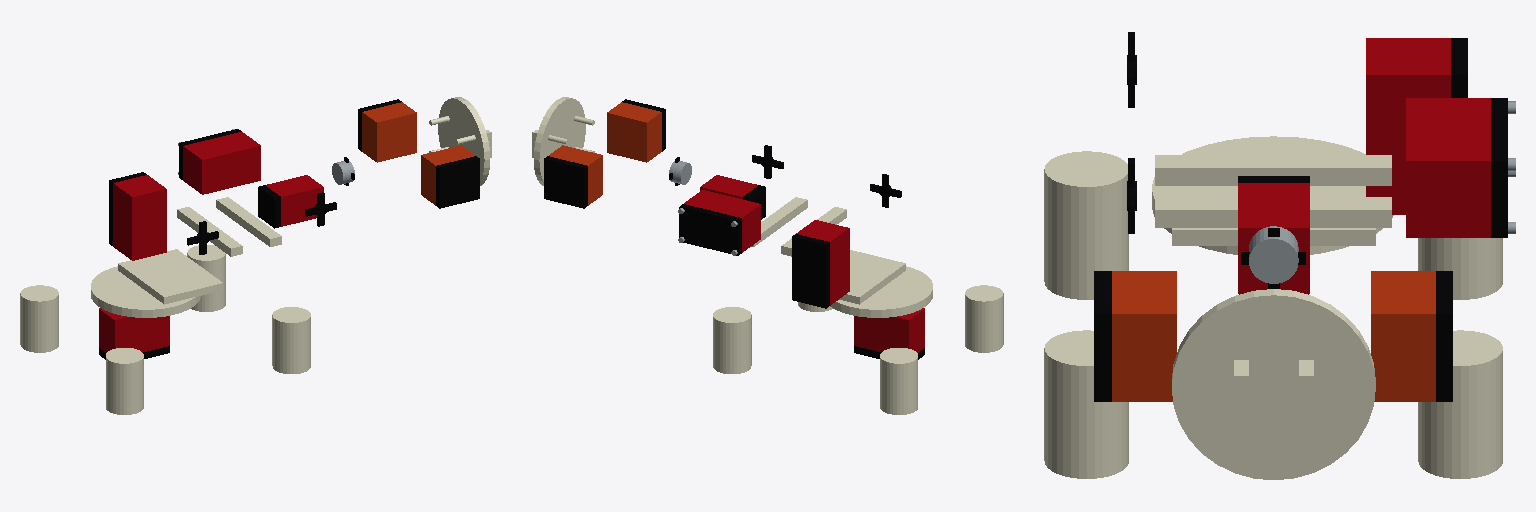
The robot description file, URDF, robot "waybionic_old_arm_visualization":
<?xml version="1.0" ?>
<robot name="waybionic_old_arm_visualization">
  <material name="old_arm_print">
    <color rgba="0.86 0.85 0.76 1"/>
  </material>
  <material name="old_arm_servo">
    <color rgba="0.65 0.045 0.09 1"/>
  </material>
  <material name="old_arm_distal_servo">
    <color rgba="0.72 0.24 0.10 1"/>
  </material>
  <material name="old_arm_cover">
    <color rgba="0.055 0.055 0.06 1"/>
  </material>
  <material name="old_arm_metal">
    <color rgba="0.62 0.65 0.67 1"/>
  </material>
  <link name="old_arm_base_link">
    <visual>
      <origin xyz="0 0 0"/>
      <geometry>
        <mesh filename="package://waybionic_description/meshes/old_arm/base_plate.stl" scale="1 1 1"/>
      </geometry>
      <material name="old_arm_print"/>
    </visual>
    <visual>
      <origin rpy="0 0 0" xyz="-0.065 -0.075 -0.041"/>
      <geometry>
        <cylinder length="0.05" radius="0.017"/>
      </geometry>
      <material name="old_arm_print"/>
    </visual>
    <visual>
      <origin rpy="0 0 0" xyz="-0.065 0.075 -0.041"/>
      <geometry>
        <cylinder length="0.05" radius="0.017"/>
      </geometry>
      <material name="old_arm_print"/>
    </visual>
    <visual>
      <origin rpy="0 0 0" xyz="0.105 -0.075 -0.041"/>
      <geometry>
        <cylinder length="0.05" radius="0.017"/>
      </geometry>
      <material name="old_arm_print"/>
    </visual>
    <visual>
      <origin rpy="0 0 0" xyz="0.105 0.075 -0.041"/>
      <geometry>
        <cylinder length="0.05" radius="0.017"/>
      </geometry>
      <material name="old_arm_print"/>
    </visual>
  </link>
  <joint name="old_arm_base_servo_body_mount" type="fixed">
    <parent link="old_arm_base_link"/>
    <child link="old_arm_base_servo_body"/>
    <origin xyz="-0.012 0 -0.031"/>
  </joint>
  <link name="old_arm_base_servo_body">
    <visual>
      <origin rpy="0 0 0" xyz="0 0 0"/>
      <geometry>
        <box size="0.056 0.028 0.038"/>
      </geometry>
      <material name="old_arm_servo"/>
    </visual>
  </link>
  <joint name="old_arm_base_servo_cover_mount" type="fixed">
    <parent link="old_arm_base_link"/>
    <child link="old_arm_base_servo_cover"/>
    <origin xyz="-0.012 0 -0.0535"/>
  </joint>
  <link name="old_arm_base_servo_cover">
    <visual>
      <origin rpy="0 0 0" xyz="0 0 0"/>
      <geometry>
        <box size="0.056 0.028 0.007"/>
      </geometry>
      <material name="old_arm_cover"/>
    </visual>
  </link>
  <joint name="old_arm_base_yaw_joint" type="revolute">
    <parent link="old_arm_base_link"/>
    <child link="old_arm_shoulder_mount"/>
    <axis xyz="0 0 1"/>
    <limit effort="0" lower="-0.5846852994181004" upper="4.127703680966589" velocity="0"/>
  </joint>
  <link name="old_arm_shoulder_mount">
    <visual>
      <origin rpy="0 0 0" xyz="0 0 0.002"/>
      <geometry>
        <cylinder length="0.008" radius="0.049"/>
      </geometry>
      <material name="old_arm_print"/>
    </visual>
    <visual>
      <origin rpy="0 0 0" xyz="0.025 0 0.0095"/>
      <geometry>
        <box size="0.060 0.082 0.007"/>
      </geometry>
      <material name="old_arm_print"/>
    </visual>
    <visual>
      <origin xyz="0.025 0.034 0.07"/>
      <geometry>
        <mesh filename="package://waybionic_description/meshes/old_arm/shoulder_motor_plate.stl" scale="1 1 1.0000000000000002"/>
      </geometry>
      <material name="old_arm_print"/>
    </visual>
    <visual>
      <origin xyz="0.025 -0.034 0.07"/>
      <geometry>
        <mesh filename="package://waybionic_description/meshes/old_arm/shoulder_back_plate.stl" scale="1 1 1.0000000000000002"/>
      </geometry>
      <material name="old_arm_print"/>
    </visual>
  </link>
  <joint name="old_arm_shoulder_servo_body_mount" type="fixed">
    <parent link="old_arm_shoulder_mount"/>
    <child link="old_arm_shoulder_servo_body"/>
    <origin xyz="0.025 0.054 0.045000000000000005"/>
  </joint>
  <link name="old_arm_shoulder_servo_body">
    <visual>
      <origin rpy="0 0 0" xyz="0 0 0"/>
      <geometry>
        <box size="0.035 0.034 0.062"/>
      </geometry>
      <material name="old_arm_servo"/>
    </visual>
  </link>
  <joint name="old_arm_shoulder_servo_cover_mount" type="fixed">
    <parent link="old_arm_shoulder_mount"/>
    <child link="old_arm_shoulder_servo_cover"/>
    <origin xyz="0.025 0.0745 0.045000000000000005"/>
  </joint>
  <link name="old_arm_shoulder_servo_cover">
    <visual>
      <origin rpy="0 0 0" xyz="0 0 0"/>
      <geometry>
        <box size="0.035 0.007 0.062"/>
      </geometry>
      <material name="old_arm_cover"/>
    </visual>
  </link>
  <joint name="old_arm_shoulder_pitch_joint" type="revolute">
    <parent link="old_arm_shoulder_mount"/>
    <child link="old_arm_upper_arm"/>
    <origin xyz="0.025 0 0.07"/>
    <axis xyz="0 -1 0"/>
    <limit effort="0" lower="-0.0" upper="1.9634954084936207" velocity="0"/>
  </joint>
  <link name="old_arm_upper_arm">
    <visual>
      <origin xyz="0 -0.050 0"/>
      <geometry>
        <mesh filename="package://waybionic_description/meshes/old_arm/upper_arm_plate.stl" scale="1.0 1 1"/>
      </geometry>
      <material name="old_arm_print"/>
    </visual>
    <visual>
      <origin xyz="0 0.050 0"/>
      <geometry>
        <mesh filename="package://waybionic_description/meshes/old_arm/upper_arm_plate.stl" scale="1.0 1 1"/>
      </geometry>
      <material name="old_arm_print"/>
    </visual>
    <visual>
      <origin rpy="0 0 0" xyz="0.04 0 -0.026"/>
      <geometry>
        <box size="0.012 0.095 0.008"/>
      </geometry>
      <material name="old_arm_print"/>
    </visual>
    <visual>
      <origin rpy="0 0 0" xyz="0.08 0 -0.026"/>
      <geometry>
        <box size="0.012 0.095 0.008"/>
      </geometry>
      <material name="old_arm_print"/>
    </visual>
  </link>
  <joint name="old_arm_shoulder_horn_mount" type="fixed">
    <parent link="old_arm_upper_arm"/>
    <child link="old_arm_shoulder_horn"/>
    <origin xyz="0 -0.057 0"/>
  </joint>
  <link name="old_arm_shoulder_horn">
    <visual>
      <origin rpy="0 0 0" xyz="0 0 0"/>
      <geometry>
        <box size="0.031 0.003 0.006"/>
      </geometry>
      <material name="old_arm_cover"/>
    </visual>
    <visual>
      <origin rpy="0 0 0" xyz="0 0 0"/>
      <geometry>
        <box size="0.006 0.003 0.031"/>
      </geometry>
      <material name="old_arm_cover"/>
    </visual>
    <visual>
      <origin rpy="1.5707963267948966 0 0" xyz="0 0 0"/>
      <geometry>
        <cylinder length="0.004" radius="0.006"/>
      </geometry>
      <material name="old_arm_cover"/>
    </visual>
  </link>
  <joint name="old_arm_elbow_servo_body_mount" type="fixed">
    <parent link="old_arm_upper_arm"/>
    <child link="old_arm_elbow_servo_body"/>
    <origin xyz="0.093 0.070 0"/>
  </joint>
  <link name="old_arm_elbow_servo_body">
    <visual>
      <origin rpy="0 0 0" xyz="0 0 0"/>
      <geometry>
        <box size="0.060 0.034 0.034"/>
      </geometry>
      <material name="old_arm_servo"/>
    </visual>
  </link>
  <joint name="old_arm_elbow_servo_cover_mount" type="fixed">
    <parent link="old_arm_upper_arm"/>
    <child link="old_arm_elbow_servo_cover"/>
    <origin xyz="0.093 0.0905 0"/>
  </joint>
  <link name="old_arm_elbow_servo_cover">
    <visual>
      <origin rpy="0 0 0" xyz="0 0 0"/>
      <geometry>
        <box size="0.060 0.007 0.034"/>
      </geometry>
      <material name="old_arm_cover"/>
    </visual>
  </link>
  <joint name="old_arm_elbow_cover_screws_mount" type="fixed">
    <parent link="old_arm_upper_arm"/>
    <child link="old_arm_elbow_cover_screws"/>
  </joint>
  <link name="old_arm_elbow_cover_screws">
    <visual>
      <origin rpy="1.5707963267948966 0 0" xyz="0.066 0.0955 -0.014"/>
      <geometry>
        <cylinder length="0.003" radius="0.0025"/>
      </geometry>
      <material name="old_arm_metal"/>
    </visual>
    <visual>
      <origin rpy="1.5707963267948966 0 0" xyz="0.12 0.0955 -0.014"/>
      <geometry>
        <cylinder length="0.003" radius="0.0025"/>
      </geometry>
      <material name="old_arm_metal"/>
    </visual>
    <visual>
      <origin rpy="1.5707963267948966 0 0" xyz="0.066 0.0955 0.014"/>
      <geometry>
        <cylinder length="0.003" radius="0.0025"/>
      </geometry>
      <material name="old_arm_metal"/>
    </visual>
    <visual>
      <origin rpy="1.5707963267948966 0 0" xyz="0.12 0.0955 0.014"/>
      <geometry>
        <cylinder length="0.003" radius="0.0025"/>
      </geometry>
      <material name="old_arm_metal"/>
    </visual>
  </link>
  <joint name="old_arm_elbow_pitch_joint" type="revolute">
    <parent link="old_arm_upper_arm"/>
    <child link="old_arm_forearm"/>
    <origin xyz="0.12 0 0"/>
    <axis xyz="0 -1 0"/>
    <limit effort="0" lower="-1.0733774899765127" upper="2.0682151636132806" velocity="0"/>
  </joint>
  <link name="old_arm_forearm">
    <visual>
      <origin xyz="0 0 0"/>
      <geometry>
        <mesh filename="package://waybionic_description/meshes/old_arm/wrist_housing.stl" scale="1.0 1 1"/>
      </geometry>
      <material name="old_arm_print"/>
    </visual>
  </link>
  <joint name="old_arm_elbow_horn_mount" type="fixed">
    <parent link="old_arm_forearm"/>
    <child link="old_arm_elbow_horn"/>
    <origin xyz="0 -0.057 0"/>
  </joint>
  <link name="old_arm_elbow_horn">
    <visual>
      <origin rpy="0 0 0" xyz="0 0 0"/>
      <geometry>
        <box size="0.031 0.003 0.006"/>
      </geometry>
      <material name="old_arm_cover"/>
    </visual>
    <visual>
      <origin rpy="0 0 0" xyz="0 0 0"/>
      <geometry>
        <box size="0.006 0.003 0.031"/>
      </geometry>
      <material name="old_arm_cover"/>
    </visual>
    <visual>
      <origin rpy="1.5707963267948966 0 0" xyz="0 0 0"/>
      <geometry>
        <cylinder length="0.004" radius="0.006"/>
      </geometry>
      <material name="old_arm_cover"/>
    </visual>
  </link>
  <joint name="old_arm_wrist_servo_body_mount" type="fixed">
    <parent link="old_arm_forearm"/>
    <child link="old_arm_wrist_servo_body"/>
    <origin xyz="0.006000000000000005 0 -0.016"/>
  </joint>
  <link name="old_arm_wrist_servo_body">
    <visual>
      <origin rpy="0 0 0" xyz="0 0 0"/>
      <geometry>
        <box size="0.043 0.029 0.029"/>
      </geometry>
      <material name="old_arm_servo"/>
    </visual>
  </link>
  <joint name="old_arm_wrist_servo_cover_mount" type="fixed">
    <parent link="old_arm_forearm"/>
    <child link="old_arm_wrist_servo_cover"/>
    <origin xyz="-0.019000000000000003 0 -0.016"/>
  </joint>
  <link name="old_arm_wrist_servo_cover">
    <visual>
      <origin rpy="0 0 0" xyz="0 0 0"/>
      <geometry>
        <box size="0.007 0.029 0.029"/>
      </geometry>
      <material name="old_arm_cover"/>
    </visual>
  </link>
  <joint name="old_arm_wrist_roll_joint" type="revolute">
    <parent link="old_arm_forearm"/>
    <child link="old_arm_wrist_roll"/>
    <origin xyz="0.05 0 0"/>
    <axis xyz="1 0 0"/>
    <limit effort="0" lower="-0.4799655442984406" upper="4.232423436086249" velocity="0"/>
  </joint>
  <link name="old_arm_wrist_roll">
    <visual>
      <origin xyz="0 0 0"/>
      <geometry>
        <mesh filename="package://waybionic_description/meshes/old_arm/wrist_cage.stl" scale="1 1 1"/>
      </geometry>
      <material name="old_arm_print"/>
    </visual>
    <visual>
      <origin rpy="0 1.5707963267948966 0" xyz="0.129 0 0"/>
      <geometry>
        <cylinder length="0.006" radius="0.041"/>
      </geometry>
      <material name="old_arm_print"/>
    </visual>
    <visual>
      <origin rpy="0 1.5707963267948966 0" xyz="0.118 -0.023 -0.015"/>
      <geometry>
        <cylinder length="0.02" radius="0.0025"/>
      </geometry>
      <material name="old_arm_print"/>
    </visual>
    <visual>
      <origin rpy="0 1.5707963267948966 0" xyz="0.118 0.023 -0.015"/>
      <geometry>
        <cylinder length="0.02" radius="0.0025"/>
      </geometry>
      <material name="old_arm_print"/>
    </visual>
    <visual>
      <origin rpy="0 1.5707963267948966 0" xyz="0.118 -0.023 0.015"/>
      <geometry>
        <cylinder length="0.02" radius="0.0025"/>
      </geometry>
      <material name="old_arm_print"/>
    </visual>
    <visual>
      <origin rpy="0 1.5707963267948966 0" xyz="0.118 0.023 0.015"/>
      <geometry>
        <cylinder length="0.02" radius="0.0025"/>
      </geometry>
      <material name="old_arm_print"/>
    </visual>
    <visual>
      <origin rpy="0 0 0" xyz="0.139 -0.013 0"/>
      <geometry>
        <box size="0.017 0.006 0.025"/>
      </geometry>
      <material name="old_arm_print"/>
    </visual>
    <visual>
      <origin rpy="0 0 0" xyz="0.139 0.013 0"/>
      <geometry>
        <box size="0.017 0.006 0.025"/>
      </geometry>
      <material name="old_arm_print"/>
    </visual>
  </link>
  <joint name="old_arm_distal_left_servo_mount" type="fixed">
    <parent link="old_arm_wrist_roll"/>
    <child link="old_arm_distal_left_servo"/>
    <origin xyz="0.083 0.052 0"/>
  </joint>
  <link name="old_arm_distal_left_servo">
    <visual>
      <origin rpy="0 0 0" xyz="0 0 0"/>
      <geometry>
        <box size="0.041 0.026 0.039"/>
      </geometry>
      <material name="old_arm_distal_servo"/>
    </visual>
  </link>
  <joint name="old_arm_distal_right_servo_mount" type="fixed">
    <parent link="old_arm_wrist_roll"/>
    <child link="old_arm_distal_right_servo"/>
    <origin xyz="0.083 -0.052 0"/>
  </joint>
  <link name="old_arm_distal_right_servo">
    <visual>
      <origin rpy="0 0 0" xyz="0 0 0"/>
      <geometry>
        <box size="0.041 0.026 0.039"/>
      </geometry>
      <material name="old_arm_distal_servo"/>
    </visual>
  </link>
  <joint name="old_arm_distal_left_cover_mount" type="fixed">
    <parent link="old_arm_distal_left_servo"/>
    <child link="old_arm_distal_left_cover"/>
    <origin xyz="0 0.0165 0"/>
  </joint>
  <link name="old_arm_distal_left_cover">
    <visual>
      <origin rpy="0 0 0" xyz="0 0 0"/>
      <geometry>
        <box size="0.041 0.007 0.039"/>
      </geometry>
      <material name="old_arm_cover"/>
    </visual>
  </link>
  <joint name="old_arm_distal_right_cover_mount" type="fixed">
    <parent link="old_arm_distal_right_servo"/>
    <child link="old_arm_distal_right_cover"/>
    <origin xyz="0 -0.0165 0"/>
  </joint>
  <link name="old_arm_distal_right_cover">
    <visual>
      <origin rpy="0 0 0" xyz="0 0 0"/>
      <geometry>
        <box size="0.041 0.007 0.039"/>
      </geometry>
      <material name="old_arm_cover"/>
    </visual>
  </link>
  <joint name="old_arm_wrist_marker_mount" type="fixed">
    <parent link="old_arm_wrist_roll"/>
    <child link="old_arm_wrist_marker"/>
    <origin xyz="0.009 0 0"/>
  </joint>
  <link name="old_arm_wrist_marker">
    <visual>
      <origin rpy="0 0 0" xyz="0 0 0"/>
      <geometry>
        <box size="0.002 0.026 0.005"/>
      </geometry>
      <material name="old_arm_cover"/>
    </visual>
  </link>
  <joint name="old_arm_wrist_marker_cross_mount" type="fixed">
    <parent link="old_arm_wrist_roll"/>
    <child link="old_arm_wrist_marker_cross"/>
    <origin xyz="0.009 0 0"/>
  </joint>
  <link name="old_arm_wrist_marker_cross">
    <visual>
      <origin rpy="0 0 0" xyz="0 0 0"/>
      <geometry>
        <box size="0.002 0.005 0.026"/>
      </geometry>
      <material name="old_arm_cover"/>
    </visual>
  </link>
  <joint name="old_arm_wrist_hub_mount" type="fixed">
    <parent link="old_arm_wrist_roll"/>
    <child link="old_arm_wrist_hub"/>
  </joint>
  <link name="old_arm_wrist_hub">
    <visual>
      <origin rpy="0 1.5707963267948966 0" xyz="0.006 0 0"/>
      <geometry>
        <cylinder length="0.012" radius="0.01"/>
      </geometry>
      <material name="old_arm_metal"/>
    </visual>
  </link>
  <joint name="old_arm_tool_joint" type="fixed">
    <parent link="old_arm_wrist_roll"/>
    <child link="old_arm_tool_frame"/>
    <origin xyz="0.0 0 0"/>
  </joint>
  <link name="old_arm_tool_frame"/>
</robot>

--- What the picture shows (computed from the rendered views, not written in the file) ---
3 views of the same robot in one strip: view 1: azimuth 30°, elevation 25°; view 2: azimuth 150°, elevation 25°; view 3: azimuth 270°, elevation 25° (orthographic).
Robot: waybionic_old_arm_visualization — 24 links, 23 joints (4 revolute, 19 fixed); root link old_arm_base_link; default pose: every joint at zero.
Visible links, largest first — view 1: old_arm_base_link, old_arm_shoulder_mount, old_arm_shoulder_servo_body, old_arm_elbow_servo_body, old_arm_distal_left_servo, old_arm_wrist_roll, old_arm_base_servo_body, old_arm_upper_arm, old_arm_distal_right_cover, old_arm_wrist_servo_body, old_arm_distal_right_servo, old_arm_wrist_servo_cover; view 2: old_arm_base_link, old_arm_shoulder_mount, old_arm_distal_right_servo, old_arm_wrist_roll, old_arm_shoulder_servo_cover, old_arm_base_servo_body, old_arm_elbow_servo_cover, old_arm_distal_left_cover, old_arm_shoulder_servo_body, old_arm_elbow_servo_body, old_arm_upper_arm, old_arm_distal_left_servo (+1 smaller); view 3: old_arm_base_link, old_arm_wrist_roll, old_arm_elbow_servo_body, old_arm_upper_arm, old_arm_shoulder_servo_body, old_arm_distal_left_servo, old_arm_distal_right_servo, old_arm_shoulder_mount, old_arm_wrist_servo_body, old_arm_elbow_servo_cover, old_arm_distal_right_cover, old_arm_wrist_hub (+4 smaller).
Link boxes in pixels (left/top/right/bottom): old_arm_base_link: left=20, top=245, right=310, bottom=414; old_arm_shoulder_mount: left=91, top=249, right=222, bottom=317; old_arm_shoulder_servo_body: left=113, top=175, right=166, bottom=260; old_arm_elbow_servo_body: left=183, top=132, right=260, bottom=194; old_arm_distal_left_servo: left=362, top=102, right=416, bottom=162; old_arm_wrist_roll: left=429, top=97, right=491, bottom=185; old_arm_base_servo_body: left=99, top=308, right=169, bottom=352; old_arm_upper_arm: left=177, top=197, right=281, bottom=256; old_arm_distal_right_cover: left=436, top=156, right=479, bottom=208; old_arm_wrist_servo_body: left=266, top=175, right=323, bottom=226; old_arm_distal_right_servo: left=421, top=145, right=474, bottom=205; old_arm_wrist_servo_cover: left=258, top=185, right=280, bottom=228; old_arm_base_link: left=713, top=285, right=1003, bottom=414; old_arm_shoulder_mount: left=830, top=250, right=932, bottom=317; old_arm_distal_right_servo: left=607, top=102, right=661, bottom=162; old_arm_wrist_roll: left=532, top=97, right=594, bottom=185; old_arm_shoulder_servo_cover: left=792, top=234, right=829, bottom=308; old_arm_base_servo_body: left=854, top=308, right=924, bottom=352; old_arm_elbow_servo_cover: left=679, top=204, right=741, bottom=255; old_arm_distal_left_cover: left=544, top=156, right=587, bottom=208; old_arm_shoulder_servo_body: left=796, top=220, right=849, bottom=305; old_arm_elbow_servo_body: left=684, top=190, right=760, bottom=252; old_arm_upper_arm: left=751, top=197, right=846, bottom=256; old_arm_distal_left_servo: left=549, top=145, right=602, bottom=205; old_arm_base_link: left=1044, top=151, right=1502, bottom=478; old_arm_wrist_roll: left=1172, top=289, right=1375, bottom=479; old_arm_elbow_servo_body: left=1406, top=98, right=1490, bottom=237; old_arm_upper_arm: left=1155, top=155, right=1391, bottom=227; old_arm_shoulder_servo_body: left=1366, top=38, right=1450, bottom=214; old_arm_distal_left_servo: left=1371, top=271, right=1435, bottom=401; old_arm_distal_right_servo: left=1112, top=271, right=1176, bottom=401; old_arm_shoulder_mount: left=1152, top=136, right=1393, bottom=254; old_arm_wrist_servo_body: left=1238, top=183, right=1309, bottom=293; old_arm_elbow_servo_cover: left=1491, top=98, right=1507, bottom=237; old_arm_distal_right_cover: left=1094, top=271, right=1111, bottom=401; old_arm_wrist_hub: left=1249, top=226, right=1298, bottom=283.
Size in the robot's own frame: 0.4245 by 0.189 by 0.177 metres.
Meshes: 6 distinct files referenced, 0 mesh visuals loaded (none loaded); not drawn: 7 (reference not matched to a file when rendering).
